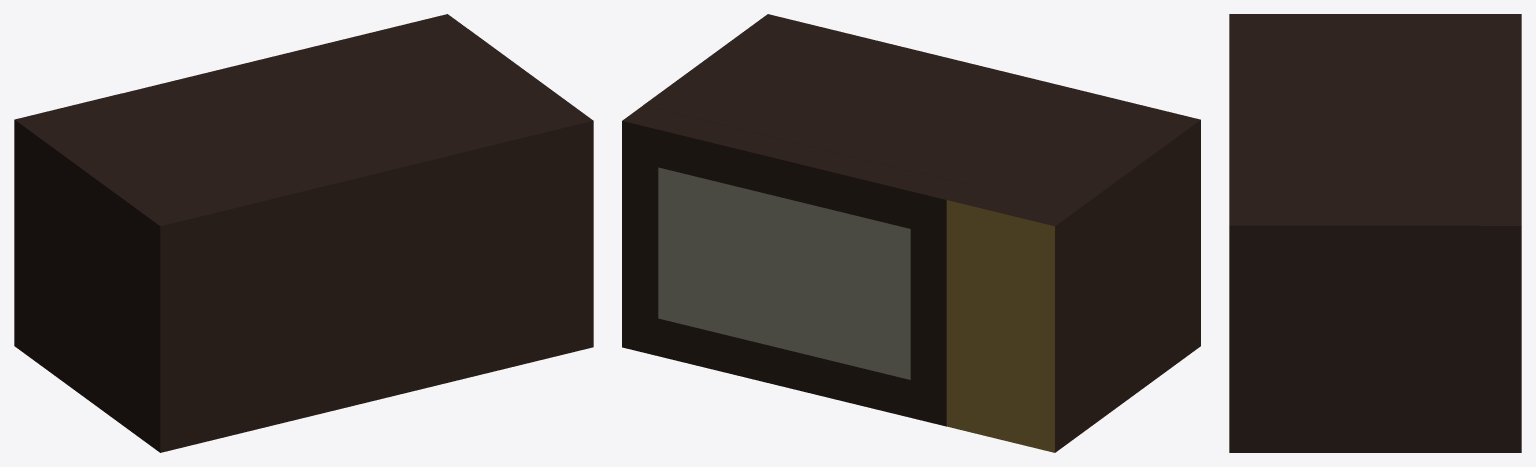
Rendered from mikrofala.fbx.
The picture shows the model from 3 angles, left to right: view 1: azimuth 30°, elevation 25°; view 2: azimuth 150°, elevation 25°; view 3: azimuth 270°, elevation 25°; orthographic projection.
Visible parts, largest first — view 1: mikrofala, Box006; view 2: mikrofala, Box006; view 3: mikrofala, Box006.
Boxes of the visible parts, x1,y1,x2,y2 form: mikrofala: [14, 29, 593, 452]; Box006: [123, 14, 467, 108]; mikrofala: [643, 14, 1200, 452]; Box006: [622, 105, 967, 426]; mikrofala: [1229, 14, 1521, 452]; Box006: [1480, 67, 1521, 452].
Size of the model in its own units: 12 by 6 by 7.
